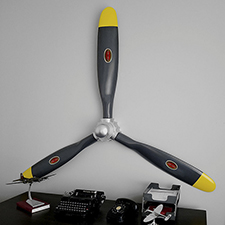Propeller: (16, 9, 218, 182)
